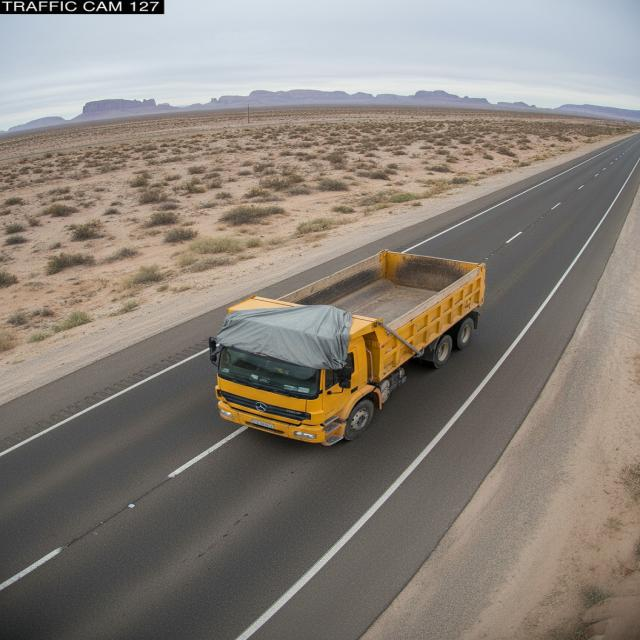Box: (228, 253, 498, 336)
Truck: (204, 232, 530, 446)
